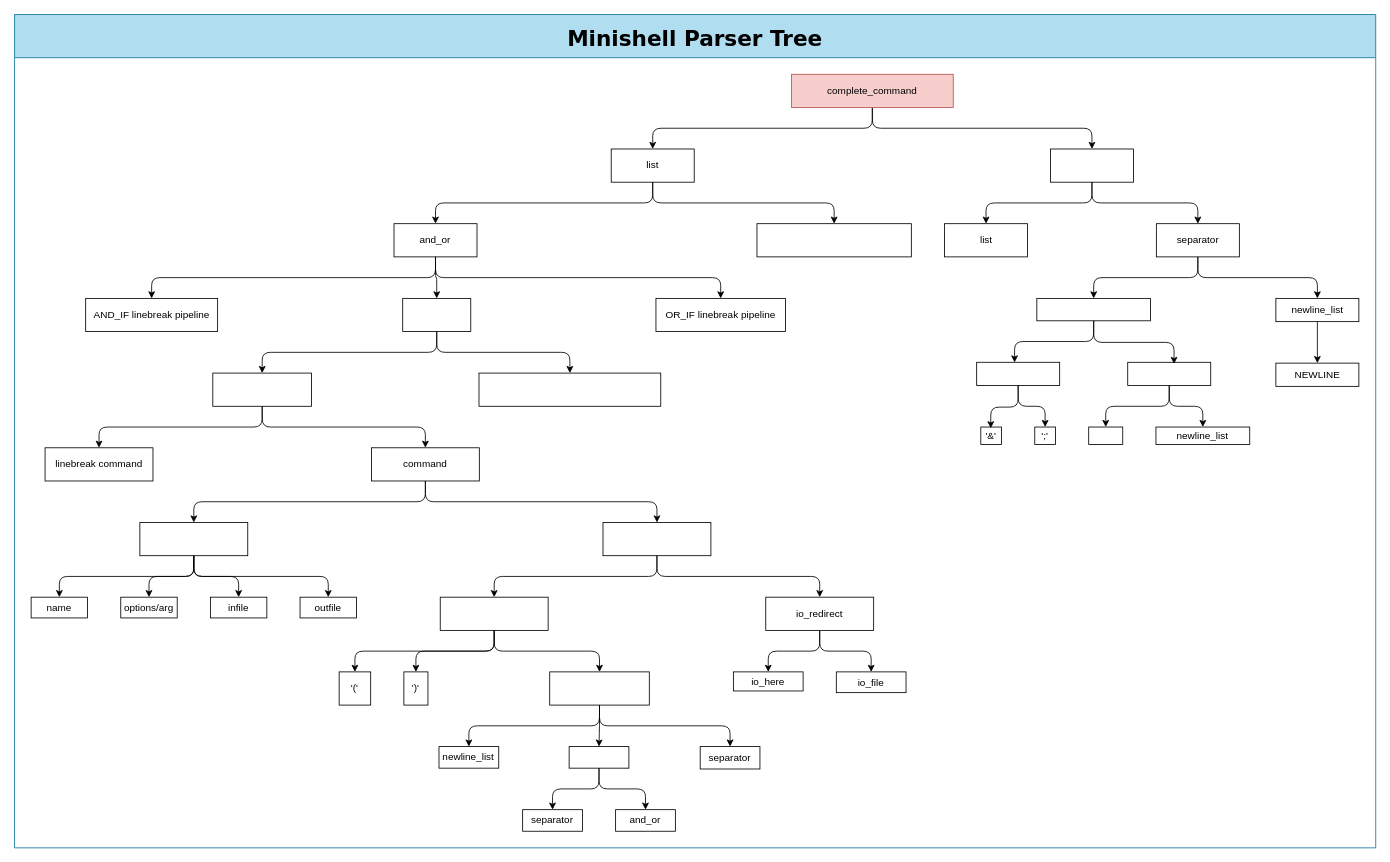
Image size: 1390x862. Some labels were removed from this diagram. Here are the shapes that lost their labels. From the top down, the centre of each, then its label:
At (x=1091, y=165): "list separator".
At (x=833, y=240): "list separator_op and_or".
At (x=436, y=315): "pipeline".
At (x=1093, y=309): "separator_op linebreak".
At (x=262, y=389): "pipe_sequence".
At (x=569, y=389): "SEM_COL pipe_sequence".
At (x=1018, y=373): "separator_op".
At (x=1169, y=373): "linebreak".
At (x=1105, y=435): "NULL".
At (x=193, y=539): "simple_command".
At (x=656, y=539): "compound_command".
At (x=493, y=613): "subshell".
At (x=599, y=688): "compound_list".
At (x=598, y=757): "term".
